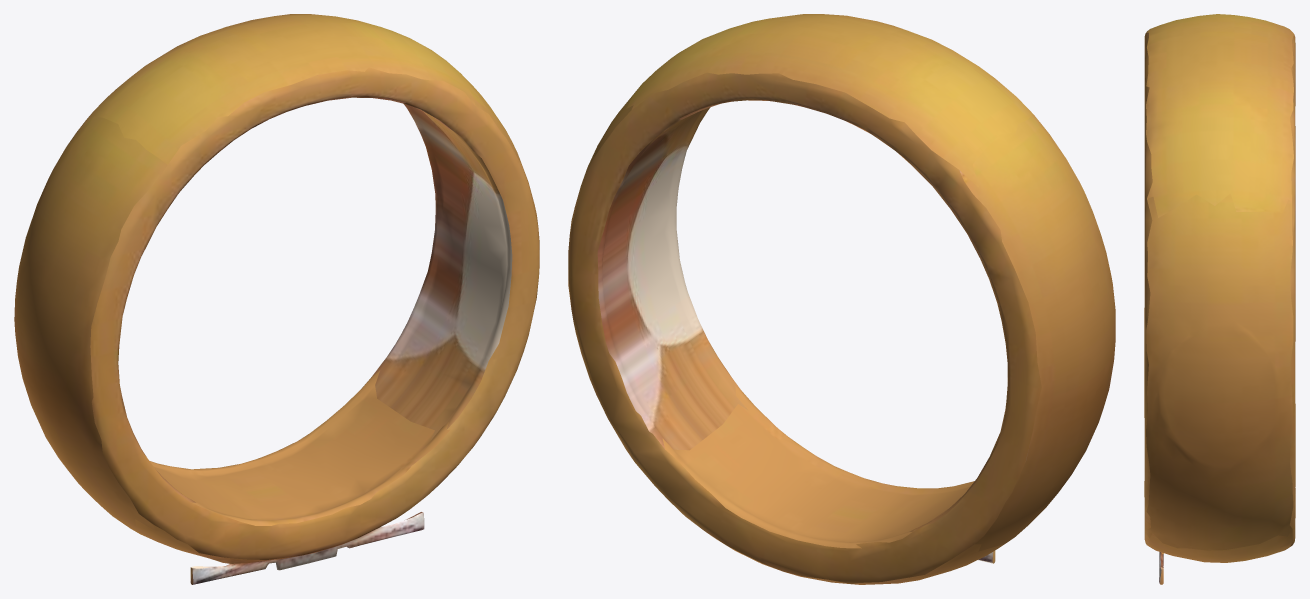
File: ring.glb
The picture shows the model from 3 angles, left to right: view 1: azimuth 30°, elevation 25°; view 2: azimuth 150°, elevation 25°; view 3: azimuth 270°, elevation 25°; orthographic projection. The views are drawn at different scales.
Parts seen in each view (by area): view 1: item_ring; view 2: item_ring; view 3: item_ring.
Part boxes in pixels (left/top/right/bottom): item_ring: left=14, top=14, right=539, bottom=584; item_ring: left=568, top=14, right=1115, bottom=584; item_ring: left=1144, top=14, right=1295, bottom=584.
Size of the model in its own units: 0.9977 by 1 by 0.2785.
Materials: 1 (1 with a texture image).
